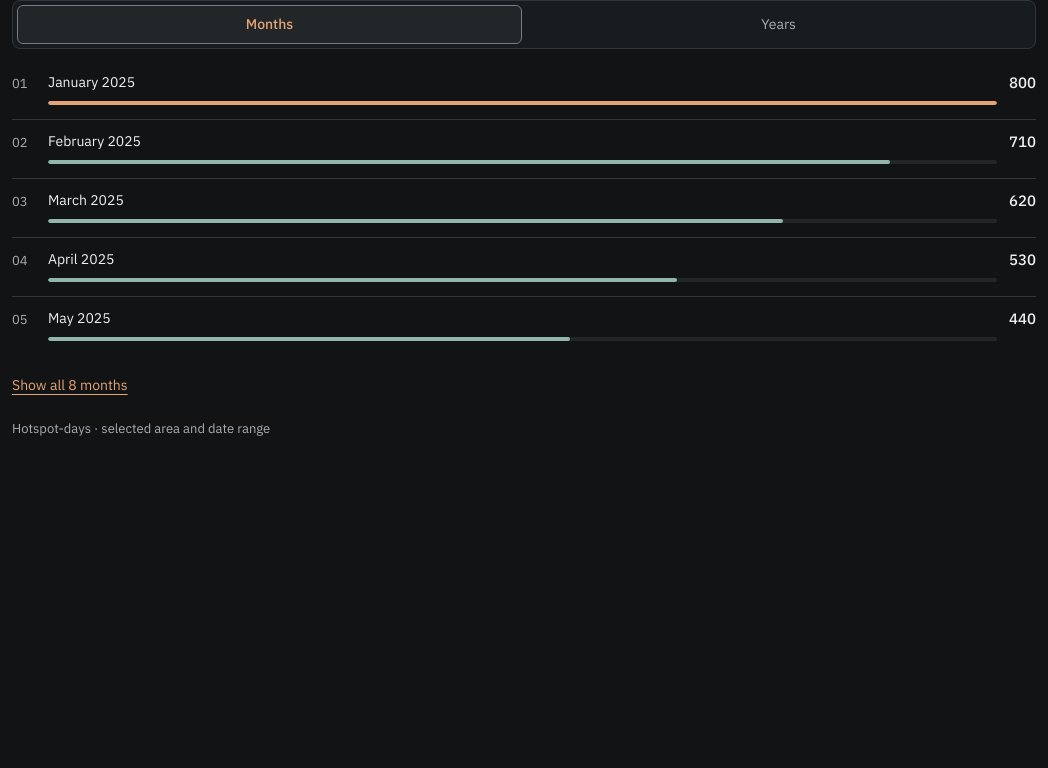
Test case: ranking exploration › switches between month and year rankings and resets expansion
The image size is (1048, 768).
Later steps or results of the test are not shown.
Expected: the number of list items is 5, [12,73,1036,105]; [12,119,1036,178]; [12,178,1036,237]; [12,237,1036,296]; [12,296,1036,355]
Click the button "Show all 8 months".
click(70, 385)  # box [12,363,128,407]
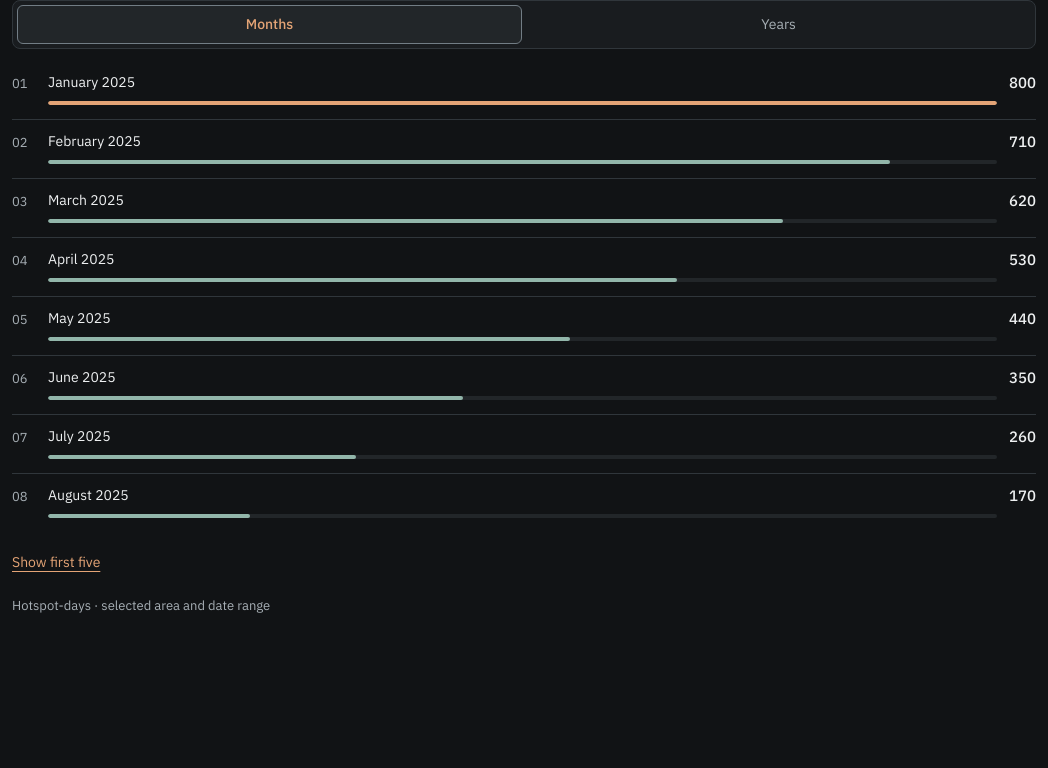
Expected: the number of list items is 8
Click the button "Years".
click(778, 24)  # box [526,5,1031,44]
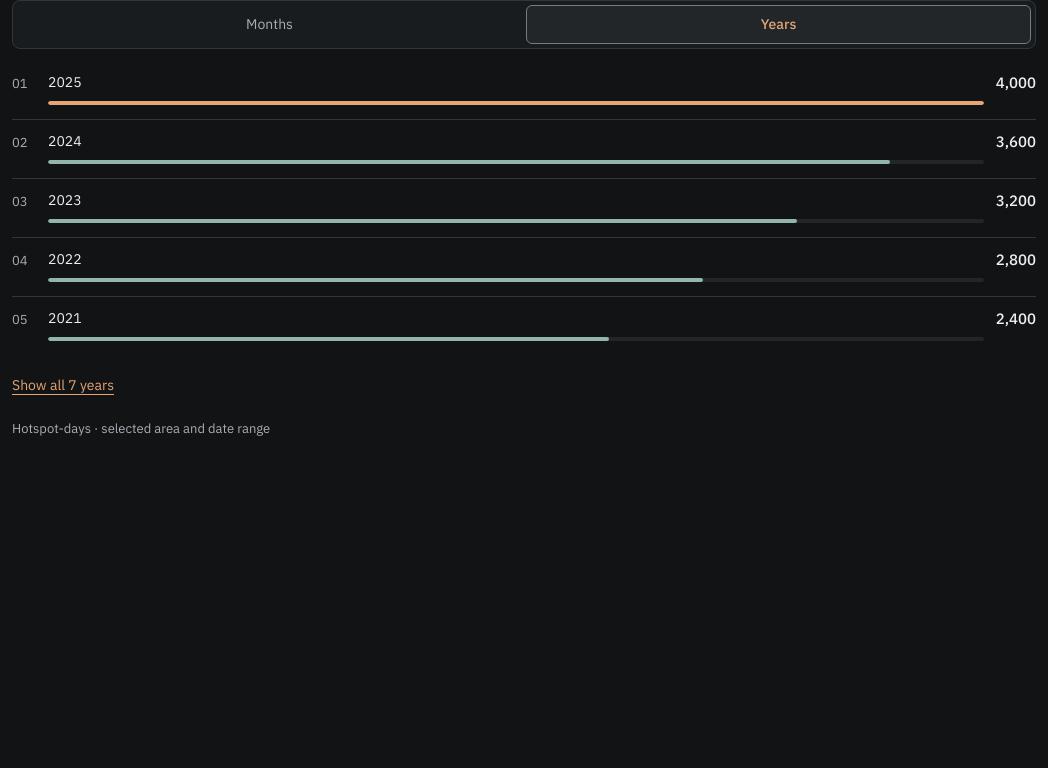
Expected: the number of list items is 5, [12,73,1036,105]; [12,119,1036,178]; [12,178,1036,237]; [12,237,1036,296]; [12,296,1036,355]
Click the button "Show all 7 years".
click(63, 385)  # box [12,363,114,407]
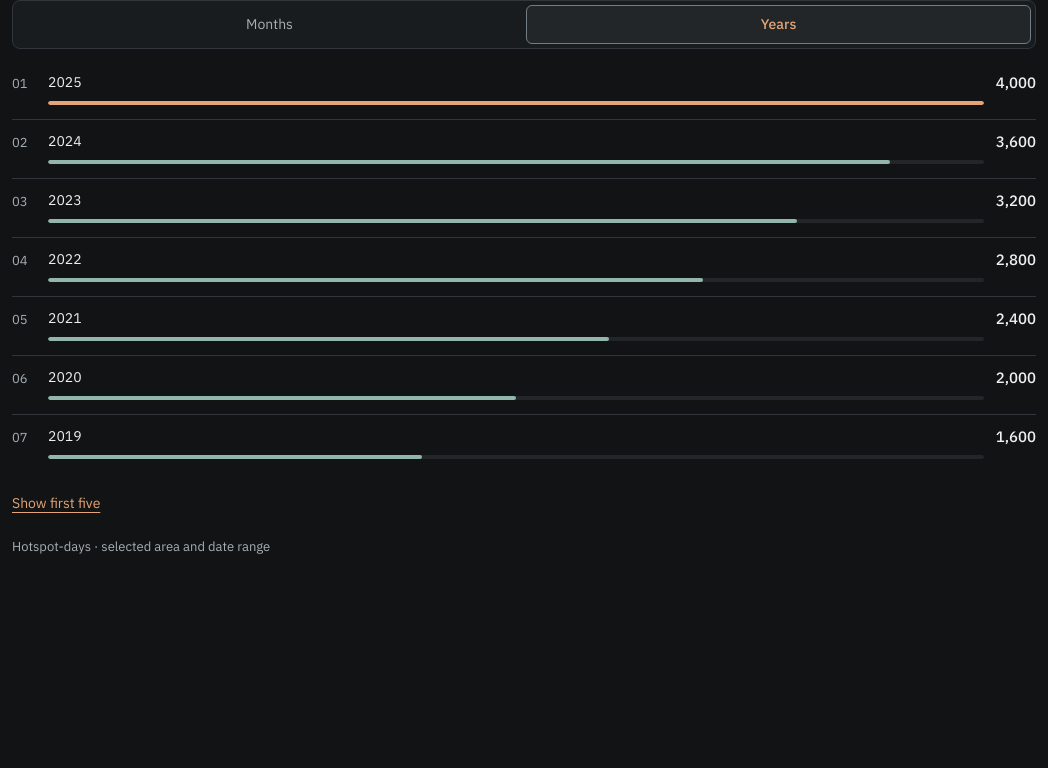
Expected: the number of list items is 7
Click the button "Show first five".
click(56, 503)  # box [12,481,100,525]
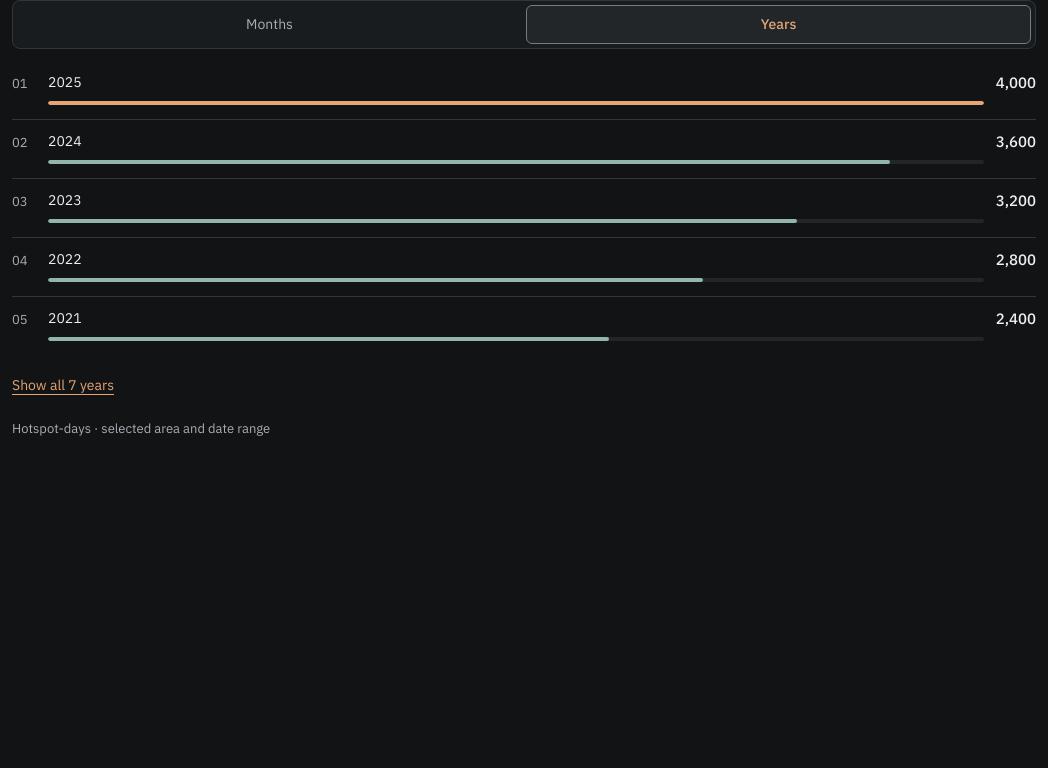
Expected: the number of list items is 5, [12,73,1036,105]; [12,119,1036,178]; [12,178,1036,237]; [12,237,1036,296]; [12,296,1036,355]
